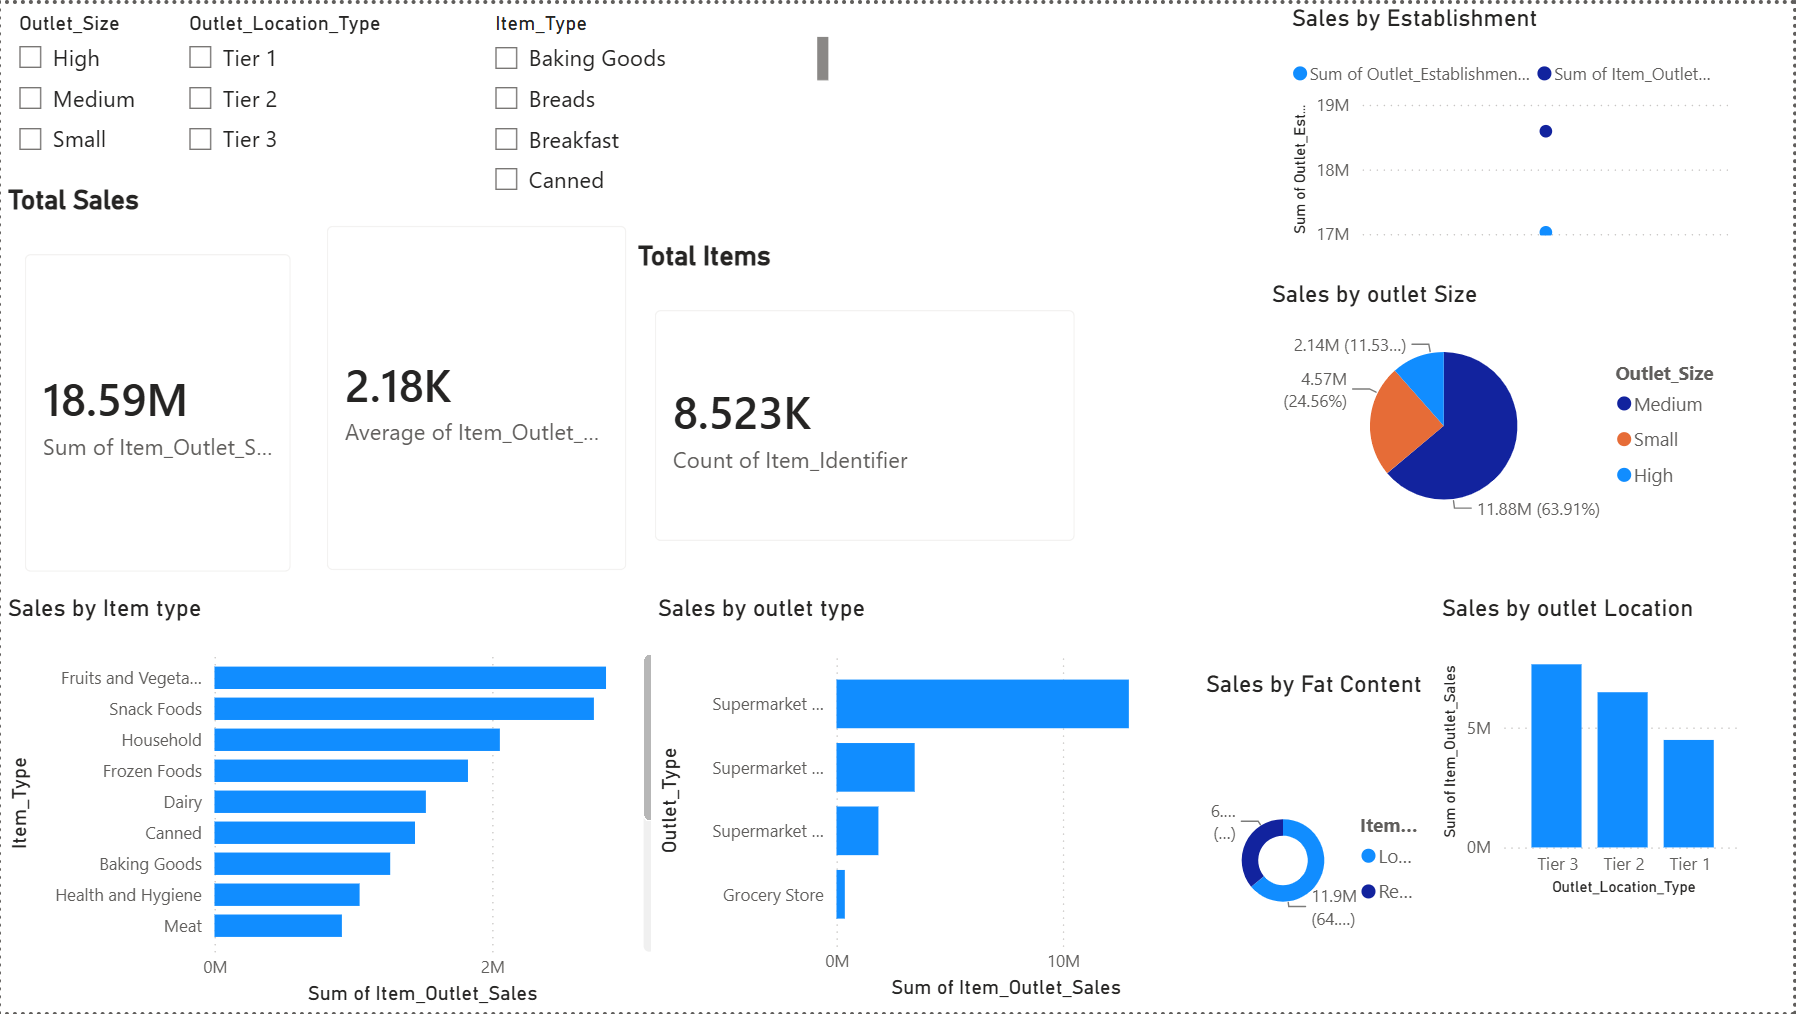

This screenshot's page, from the dashboard's own definition file:
{"tool":"powerbi","page":{"name":"Page 1","canvas":[1280,720],"ordinal":0},"visuals":[{"type":"cardVisual","title":"Total Sales","fields":{"Data":["Sum(blinkit_cleaned.Item_Outlet_Sales)"]},"box":[0,128,224,294],"z":0},{"type":"cardVisual","fields":{"Data":["Avg(blinkit_cleaned.Item_Outlet_Sales)","select"]},"box":[216,142,248,280],"z":1000},{"type":"cardVisual","title":"Total Items","fields":{"Data":["CountNonNull(blinkit_cleaned.Item_Identifier)"]},"box":[450,168,334,232],"z":2000},{"type":"donutChart","title":"Sales by Fat Content","fields":{"Category":["blinkit_cleaned.Item_Fat_Content"],"Y":["Sum(blinkit_cleaned.Item_Outlet_Sales)"]},"box":[856,476,168,242],"z":3000},{"type":"barChart","title":"Sales by Item type","fields":{"Category":["blinkit_cleaned.Item_Type"],"Y":["Sum(blinkit_cleaned.Item_Outlet_Sales)"]},"box":[0,422,472,298],"z":4000},{"type":"pieChart","title":"Sales by outlet Size","fields":{"Category":["blinkit_cleaned.Outlet_Size"],"Y":["Sum(blinkit_cleaned.Item_Outlet_Sales)"]},"box":[903.3,196.7,343.3,178.3],"z":5000},{"type":"clusteredColumnChart","title":"Sales by outlet Location","fields":{"Category":["blinkit_cleaned.Outlet_Location_Type"],"Y":["Sum(blinkit_cleaned.Item_Outlet_Sales)"]},"box":[1024,422,225,220],"z":6000},{"type":"clusteredBarChart","title":"Sales by outlet type","fields":{"Category":["blinkit_cleaned.Outlet_Type"],"Y":["Sum(blinkit_cleaned.Item_Outlet_Sales)"]},"box":[464,422,392,294],"z":7000},{"type":"lineChart","title":"Sales by Establishment ","fields":{"Y":["Sum(blinkit_cleaned.Outlet_Establishment_Year)","Sum(blinkit_cleaned.Item_Outlet_Sales)"]},"box":[916.7,0,321.7,178.3],"z":8000},{"type":"slicer","fields":{"Values":["blinkit_cleaned.Outlet_Size"]},"box":[0,0,121.7,130.8],"z":9000},{"type":"slicer","fields":{"Values":["blinkit_cleaned.Outlet_Location_Type"]},"box":[122,0,204,150],"z":10000},{"type":"slicer","fields":{"Values":["blinkit_cleaned.Item_Type"]},"box":[340,0,256,150],"z":11000}]}

Visuals, with their boxes in screenshot pixels (x1, y1, x2, y2), scaled from the page's 1280x720 canvas onto the 1796x1014 screenshot:
"Total Sales" cardVisual: 0 180 314 594
cardVisual - Avg(blinkit_cleaned.Item_Outlet_Sales) x select: 303 200 651 594
"Total Items" cardVisual: 631 237 1100 563
"Sales by Fat Content" donutChart: 1201 670 1437 1011
"Sales by Item type" barChart: 0 594 662 1013
"Sales by outlet Size" pieChart: 1267 277 1749 528
"Sales by outlet Location" clusteredColumnChart: 1437 594 1753 904
"Sales by outlet type" clusteredBarChart: 651 594 1201 1008
"Sales by Establishment " lineChart: 1286 0 1738 251
slicer - blinkit_cleaned.Outlet_Size: 0 0 171 184
slicer - blinkit_cleaned.Outlet_Location_Type: 171 0 457 211
slicer - blinkit_cleaned.Item_Type: 477 0 836 211
